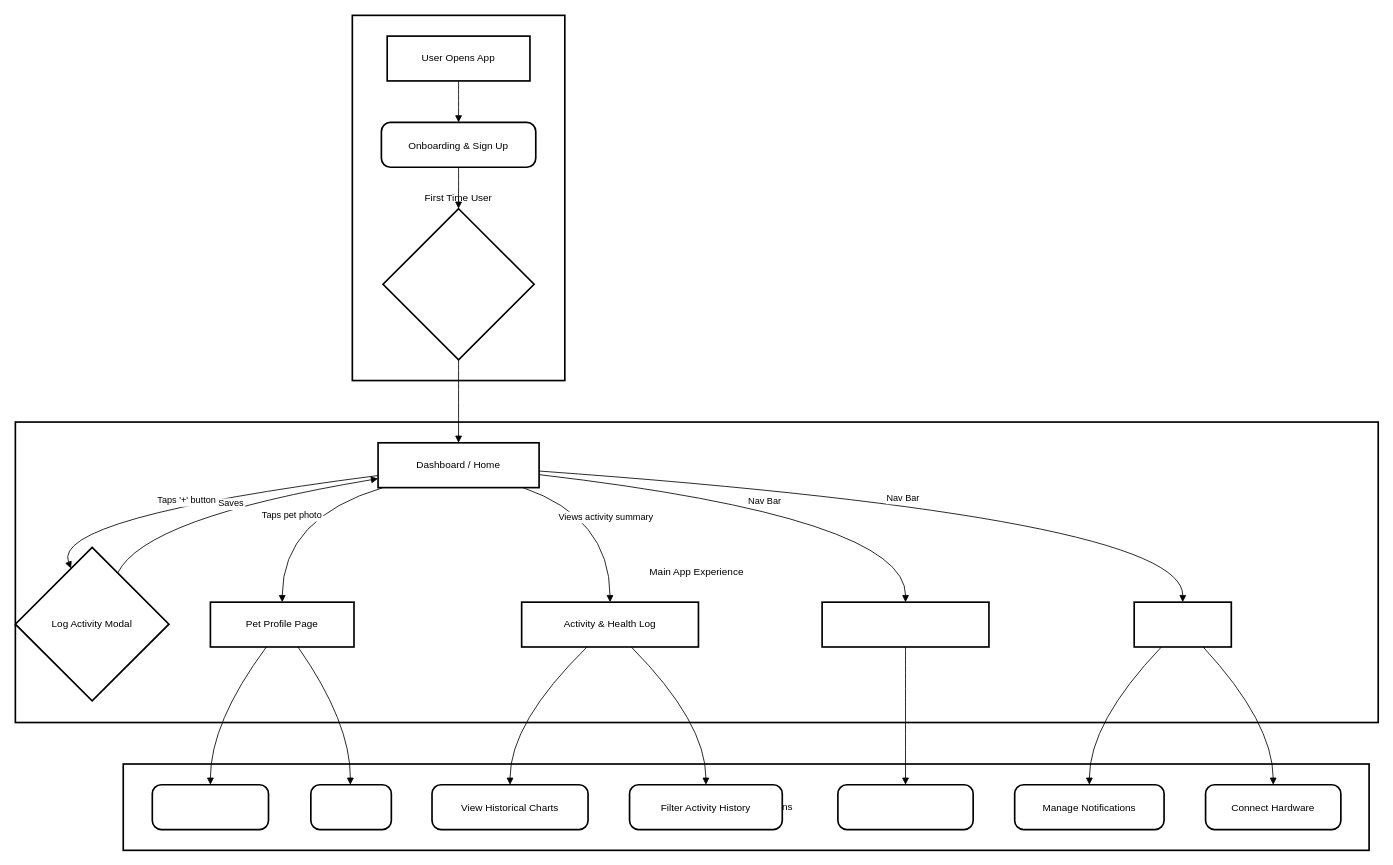
This 1393x865 diagram has some shape labels left out. The box of each missing label's shape, as (x1, y1, x2, y2) in pixels:
Create Pet Profile: (382, 208, 535, 360)
Edit Pet Details: (151, 784, 269, 830)
Set Goals: (310, 784, 392, 830)
Settings: (1133, 601, 1232, 647)
Social / Community: (821, 601, 989, 647)
View Friends' Feed: (837, 784, 974, 830)
